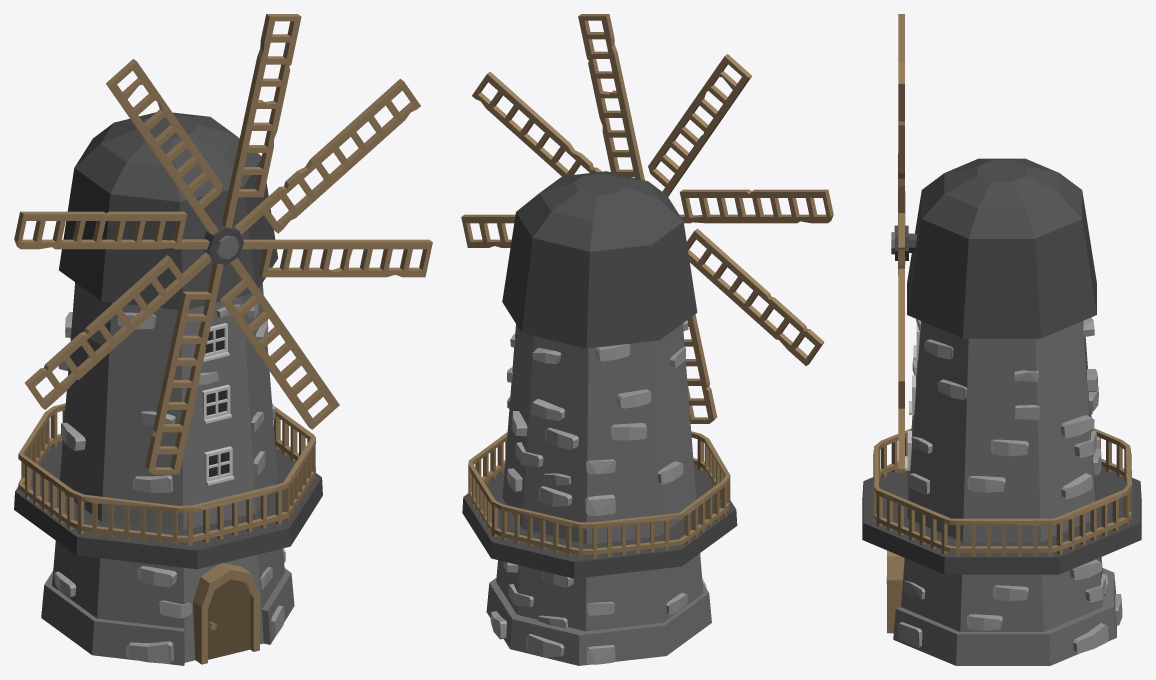
Rendered from tower-windmill.glb.
3 views of the same model, side by side, from view 1: azimuth 30°, elevation 25°; view 2: azimuth 150°, elevation 25°; view 3: azimuth 270°, elevation 25° (orthographic). The views are drawn at different scales.
Parts seen in each view (by area): view 1: TowerWindmill_Cylinder.008; view 2: TowerWindmill_Cylinder.008; view 3: TowerWindmill_Cylinder.008.
Part boxes in pixels (x1,y1,x2,y2): TowerWindmill_Cylinder.008: (14, 14, 432, 665); TowerWindmill_Cylinder.008: (461, 14, 833, 665); TowerWindmill_Cylinder.008: (862, 14, 1141, 665).
Size of the model in its own units: 7.92 by 11.41 by 4.99.
1 material, 1 textured.
